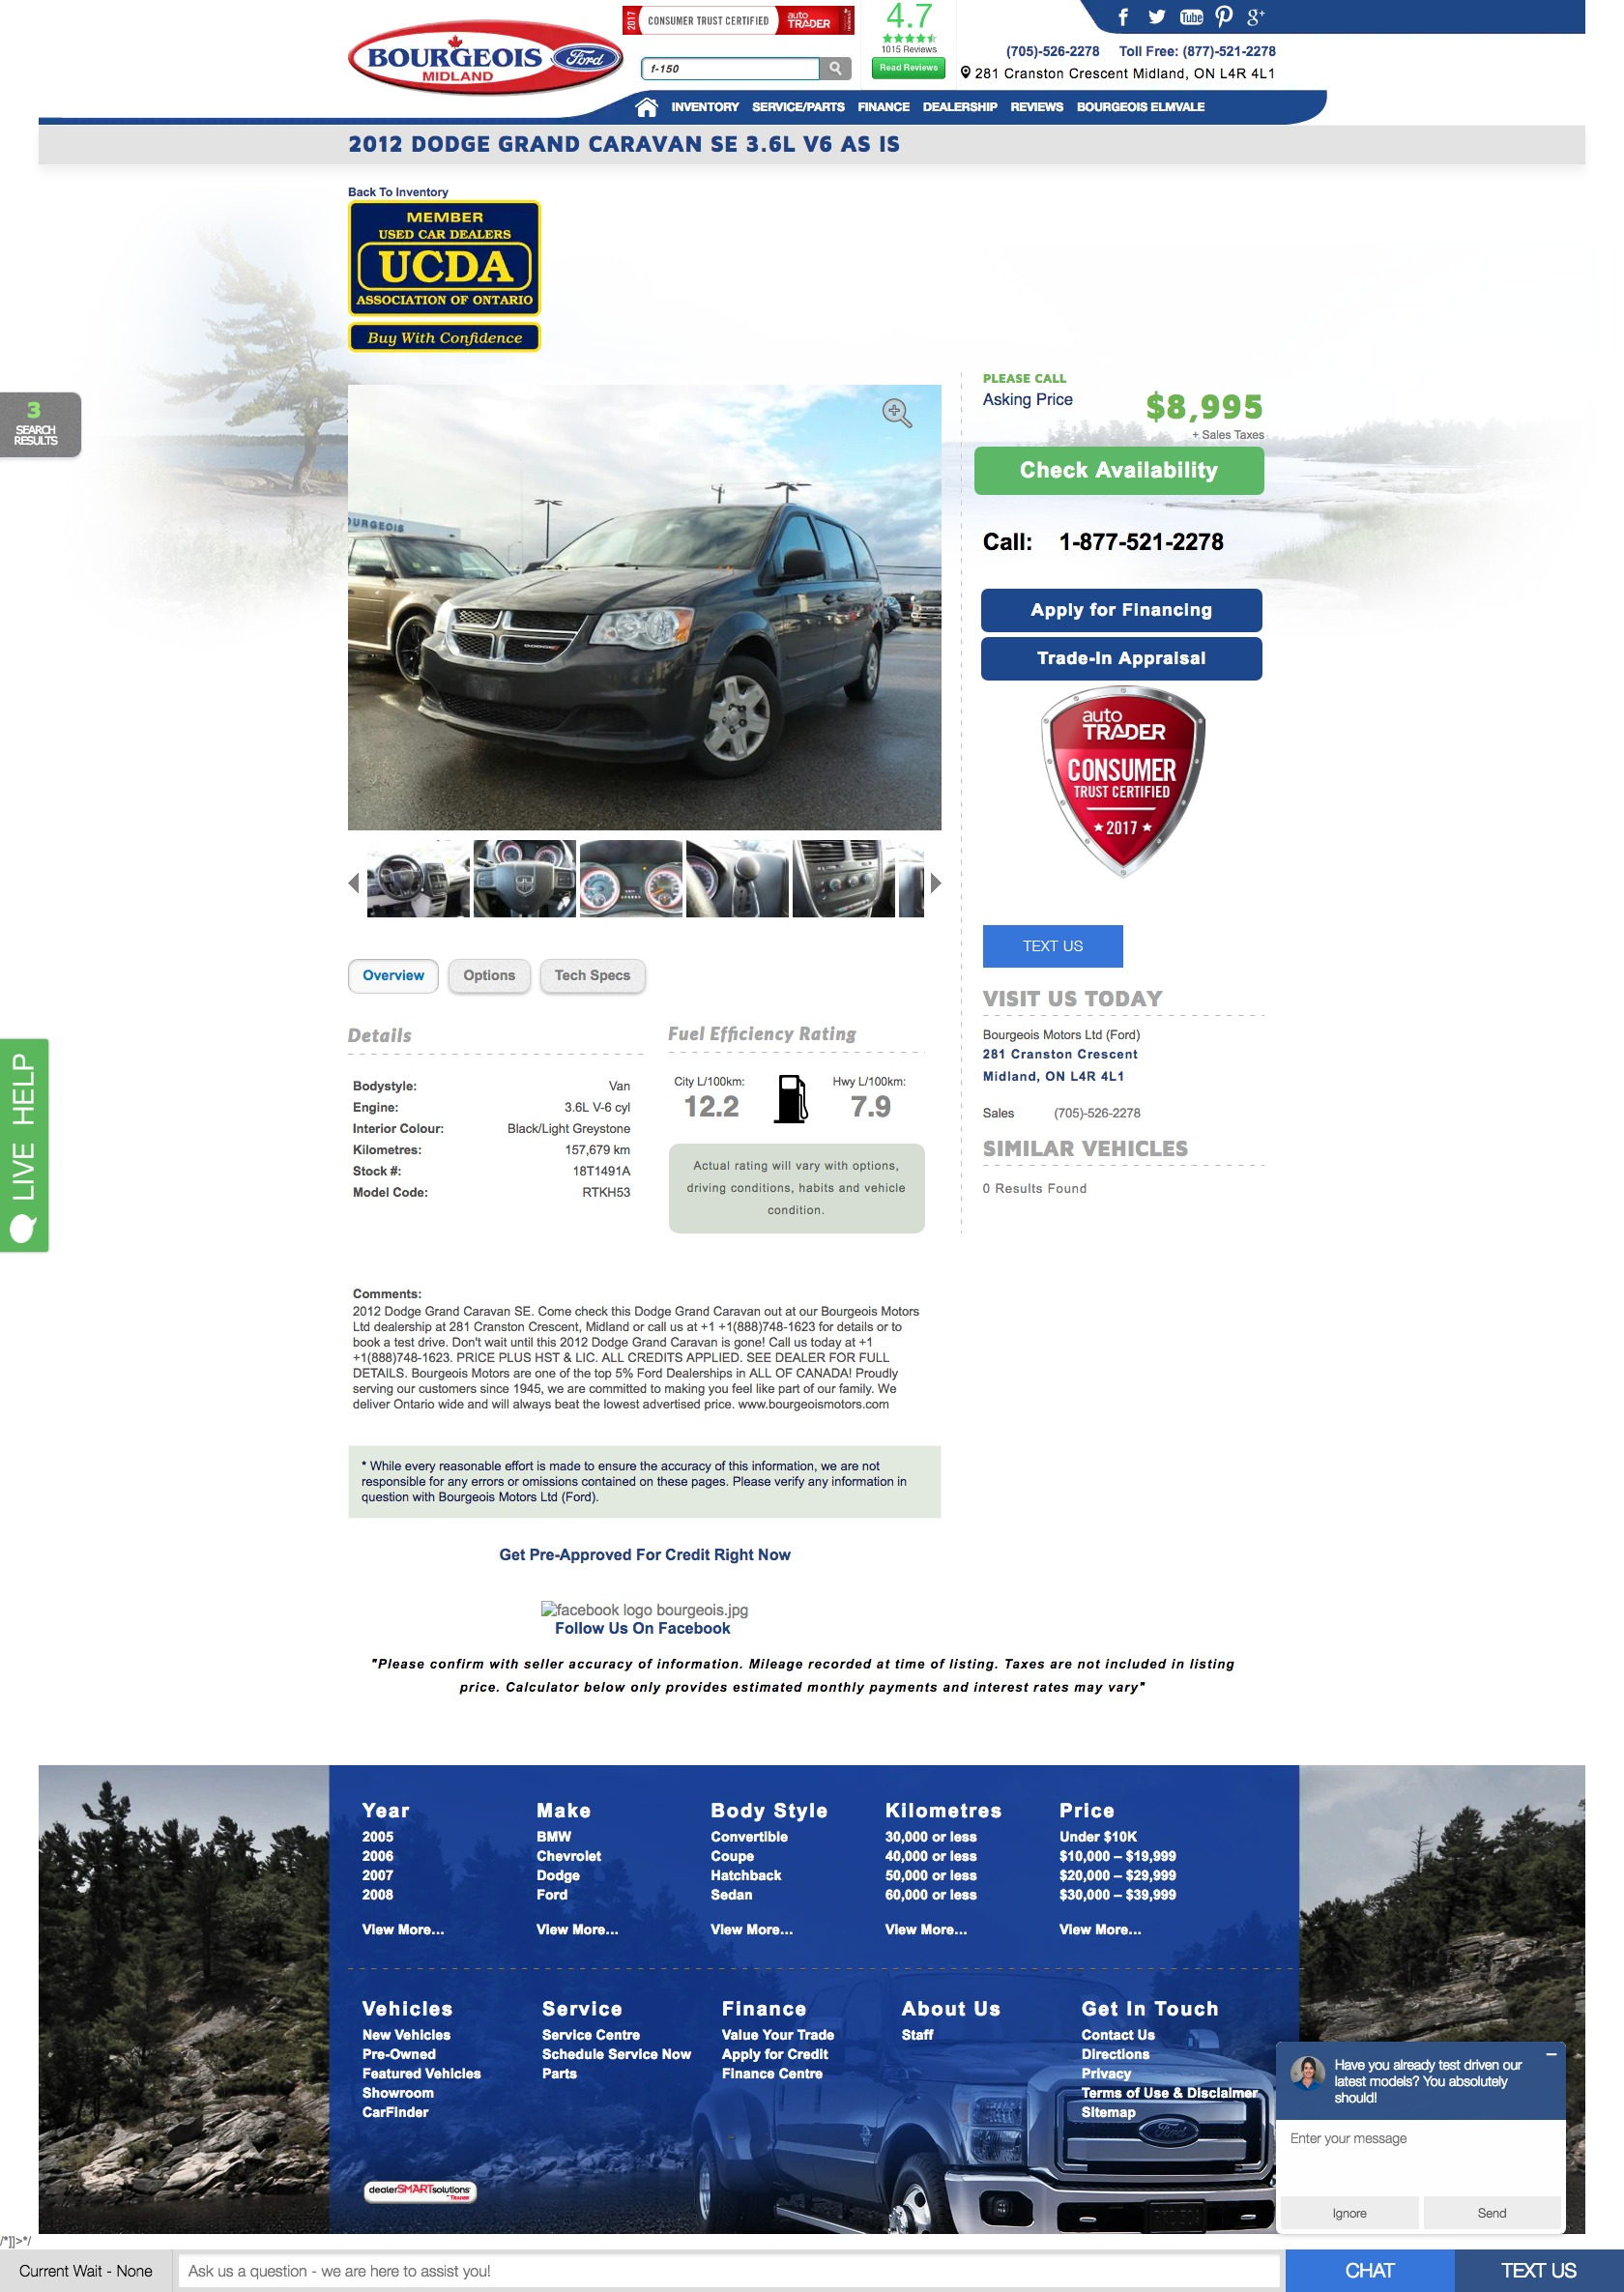car: (932, 874, 942, 896)
